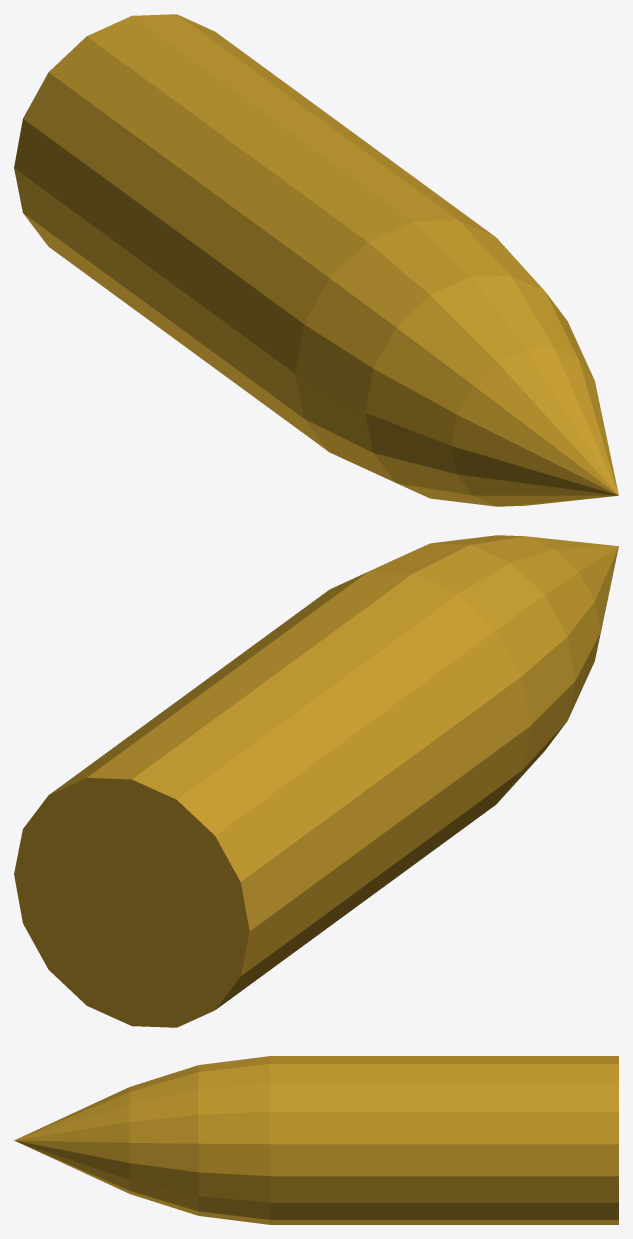
Rendered from projectile.fbx.
3 renders of one model, top to bottom at view 1: azimuth 30°, elevation 25°; view 2: azimuth 150°, elevation 25°; view 3: azimuth 270°, elevation 25°, orthographic. The views are drawn at different scales.
Visible parts, largest first — view 1: Cylinder; view 2: Cylinder; view 3: Cylinder.
Part boxes in pixels (x1,y1,x2,y2): Cylinder: (14,14,618,506); Cylinder: (14,535,618,1027); Cylinder: (14,1056,618,1224).
Bounding box in the file's own units: 20 × 20 × 71.6.
